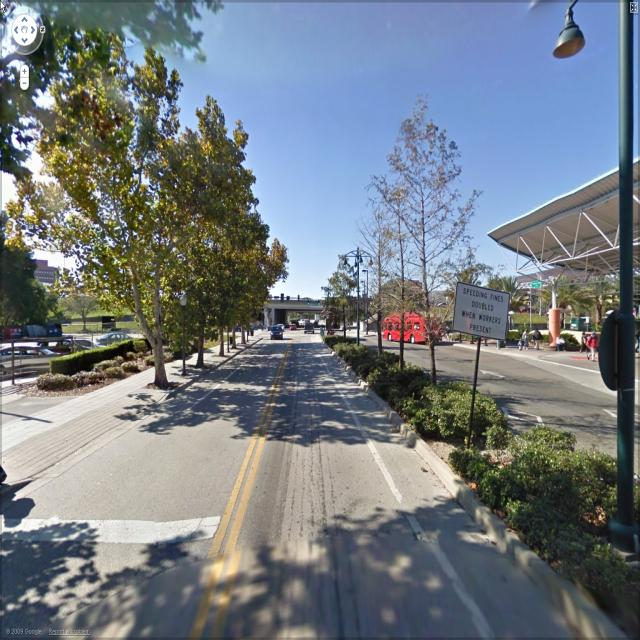b_2: (7, 251, 73, 311)
